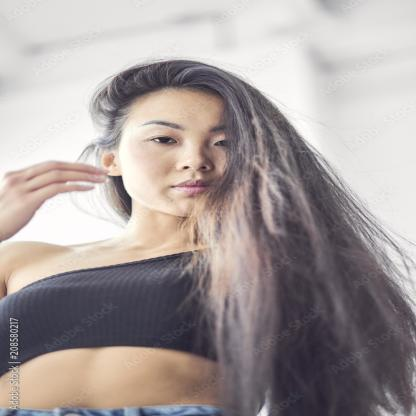person: (89, 67, 283, 224)
